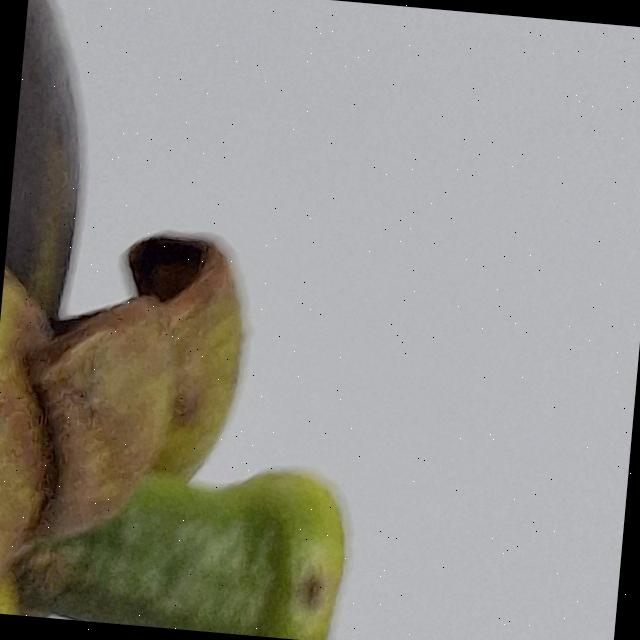mangosteen: (0, 0, 437, 640)
